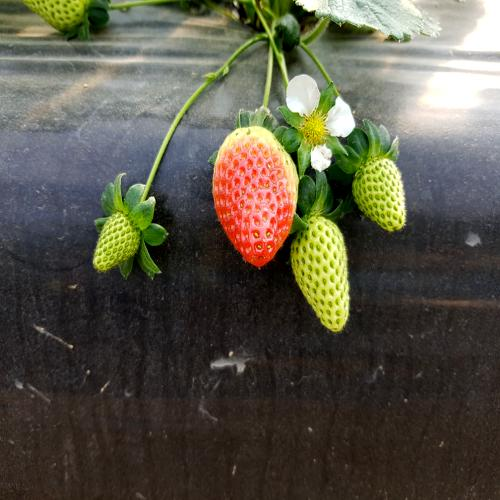partially-ripe: (205, 114, 304, 287)
